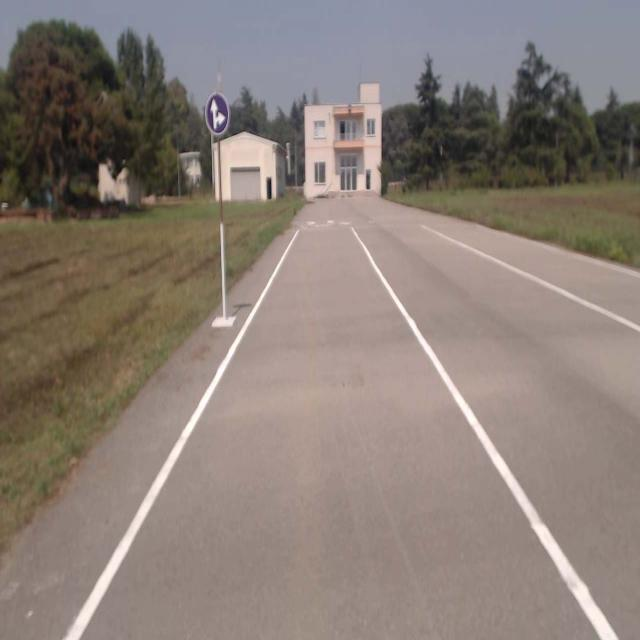ilerisag: (204, 92, 230, 134)
